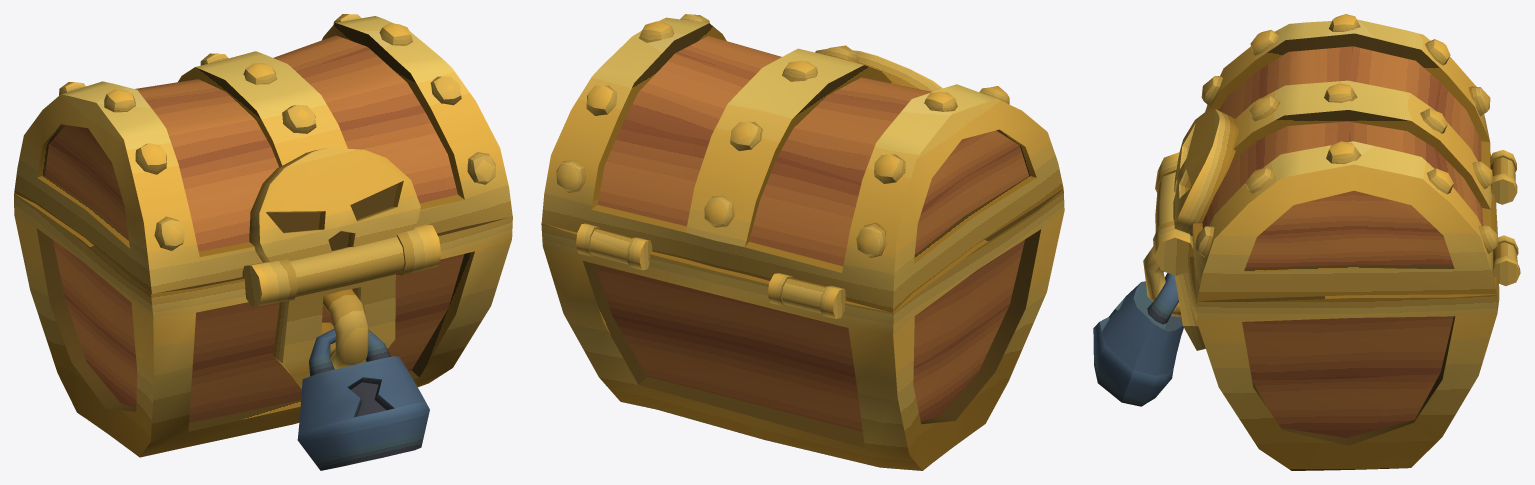
The model's file is Cofre.fbx.
3 views of the same model, side by side, from view 1: azimuth 30°, elevation 25°; view 2: azimuth 150°, elevation 25°; view 3: azimuth 270°, elevation 25° (orthographic). The views are drawn at different scales.
Visible parts, largest first — view 1: Cofre; view 2: Cofre; view 3: Cofre.
Boxes of the visible parts, <box> form: Cofre: <box>14,14,512,470</box>; Cofre: <box>541,14,1064,470</box>; Cofre: <box>1093,14,1520,470</box>.
Bounding box in the file's own units: 0.9378 × 0.8407 × 1.
1 material, 1 textured.
